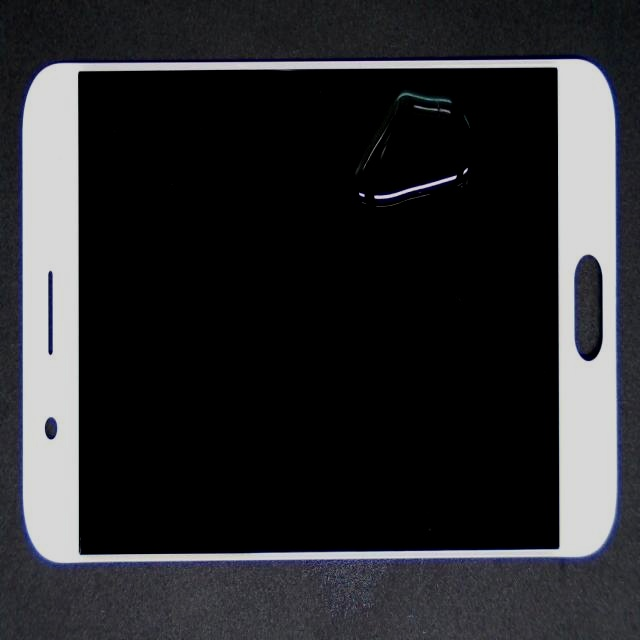oil: (259, 86, 640, 191)
